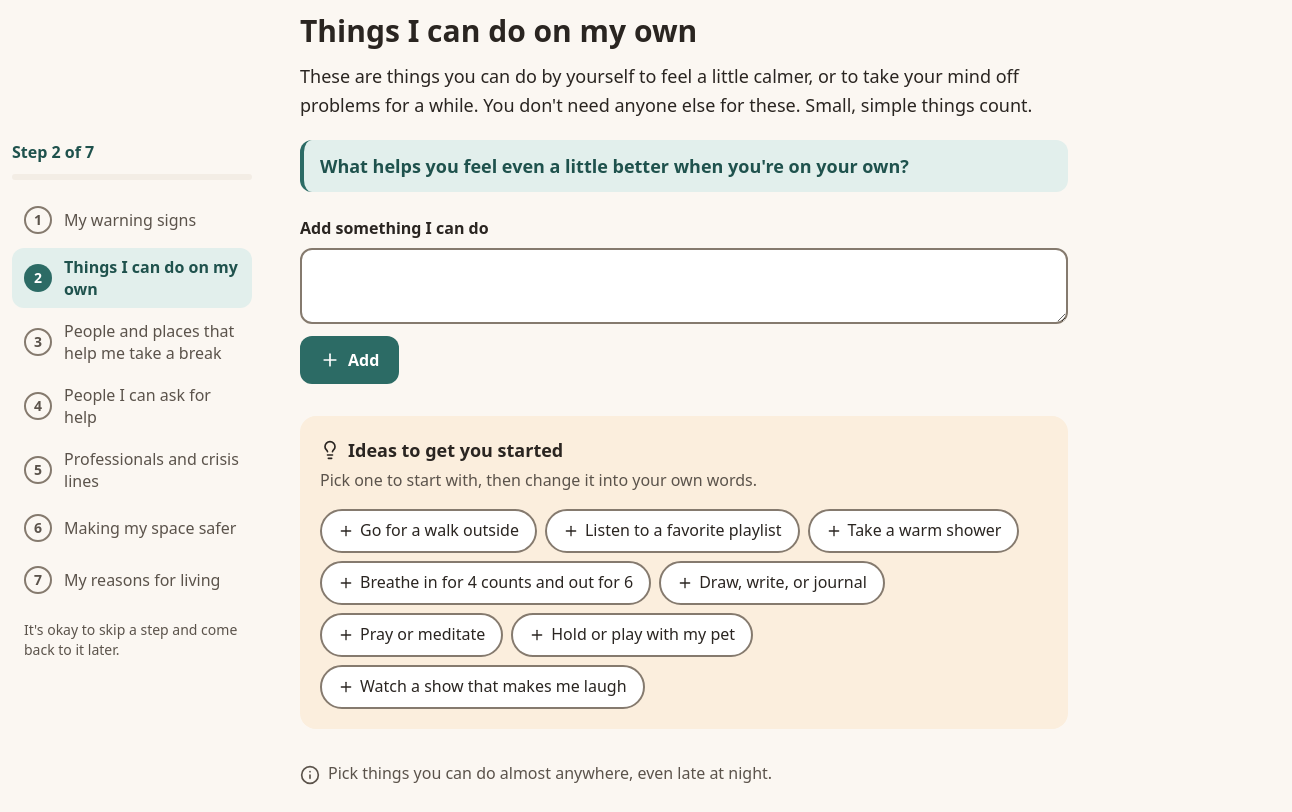
Test: BuilderScreen › copies an idea into the field so it can be reworded first
What coordinates should you click on to do the following:
click the button with aria-label "Use this idea: Go for a walk outside"
I would click on:
 (428, 531)
Its box is left=320, top=509, right=537, bottom=553.
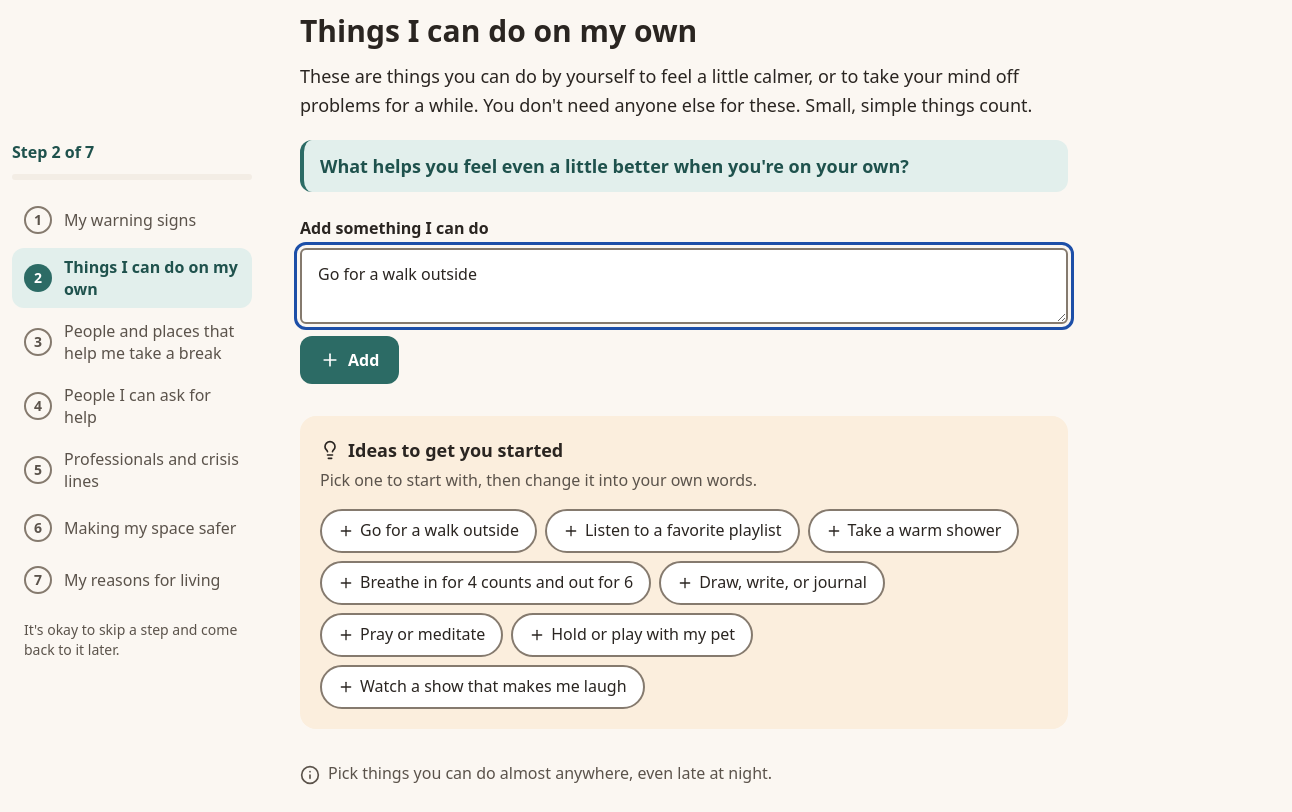
Expected: the text box labelled "Add something I can do" holds "Go for a walk outside", left=300, top=248, right=1068, bottom=324
